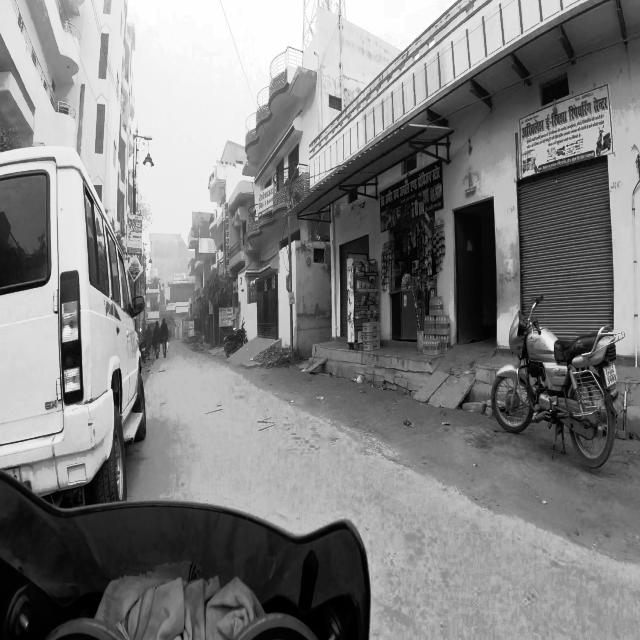Car: (0, 138, 158, 492)
